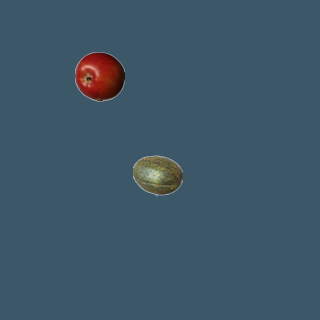Apple Braeburn: (74, 51, 124, 101)
Melon Piel de Sapo: (132, 150, 182, 200)
